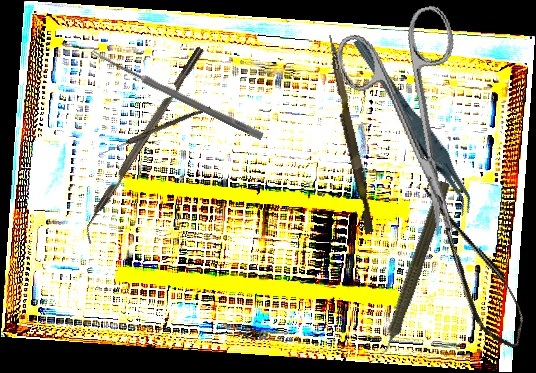Chopper: (75, 46, 213, 245)
Handpiece: (369, 178, 454, 368)
Iris Scissors: (330, 2, 499, 250)
Micro Scissor: (413, 173, 535, 358)
Pusher: (320, 34, 379, 234)
Surgical Spoon: (89, 48, 265, 141), (97, 103, 211, 159)
Tissue Forceps: (352, 26, 478, 225)
